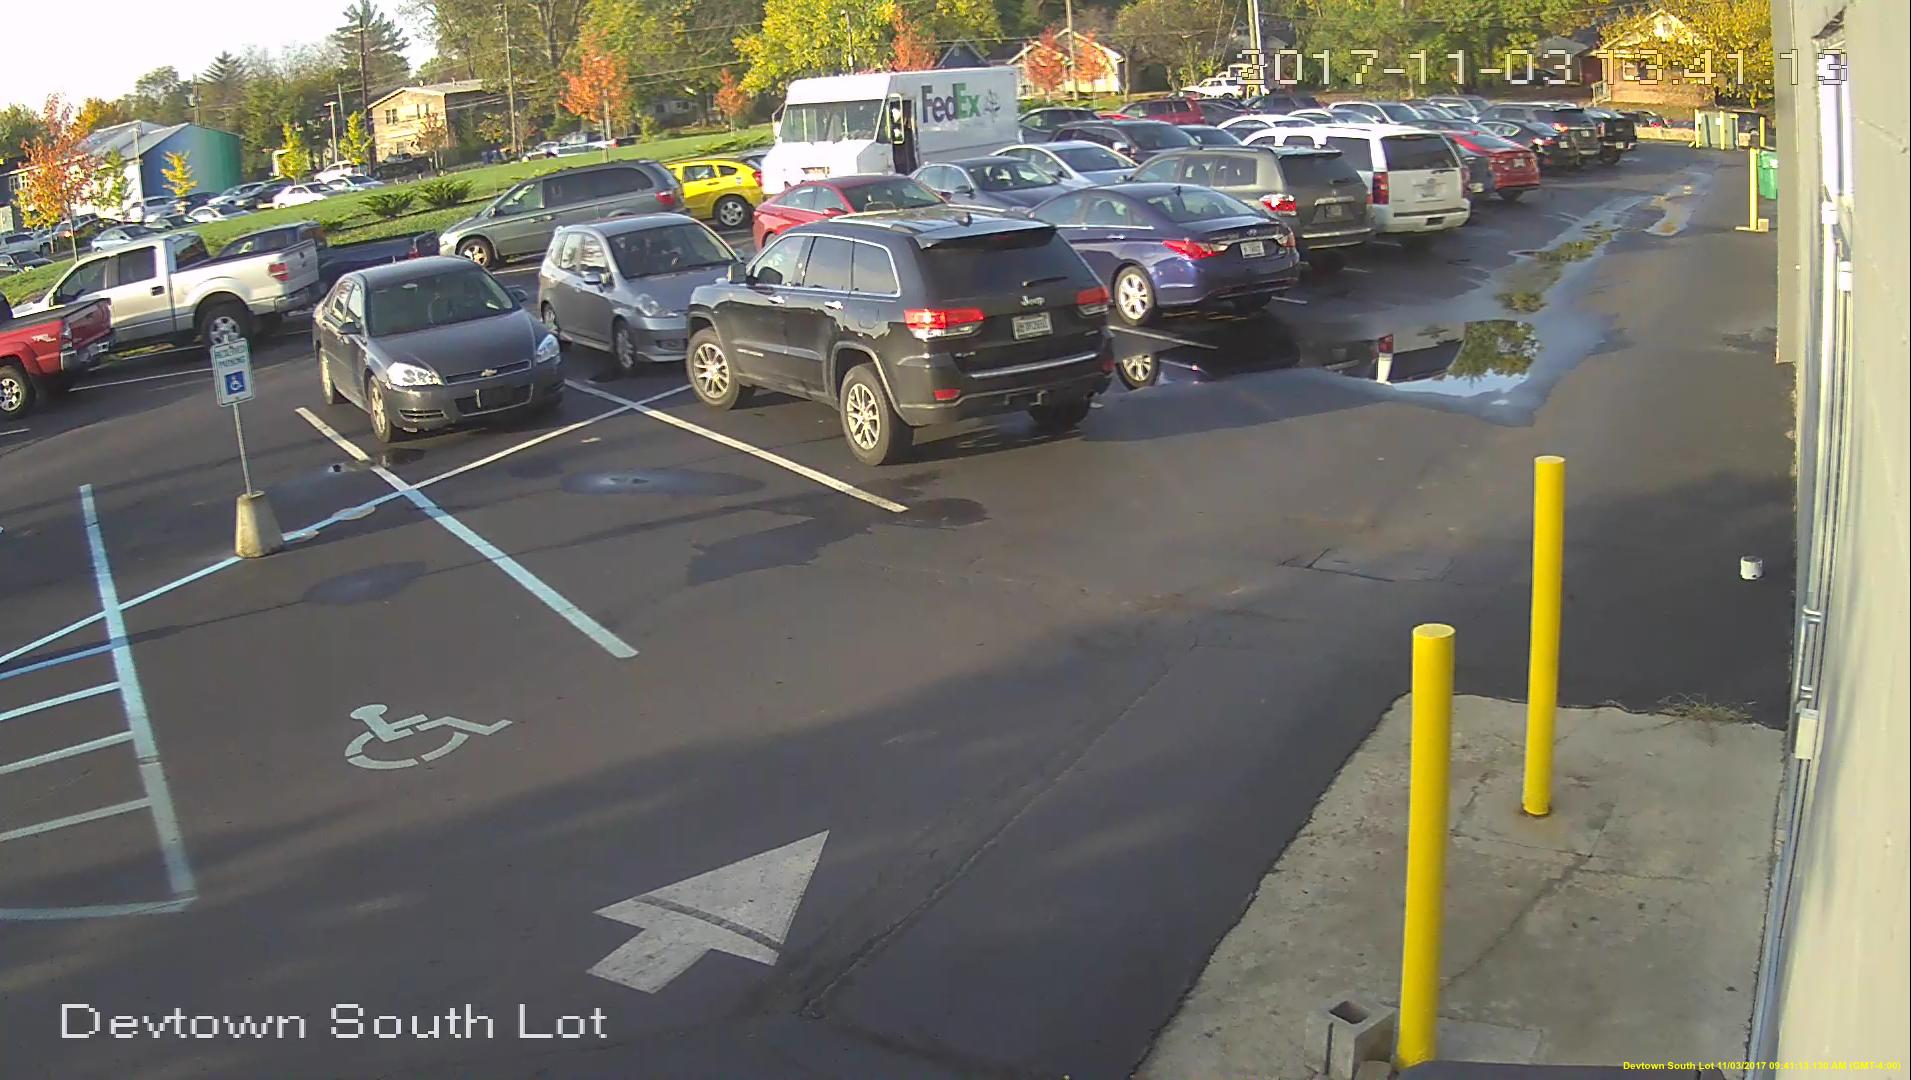fedex_truck: (753, 62, 1026, 192)
